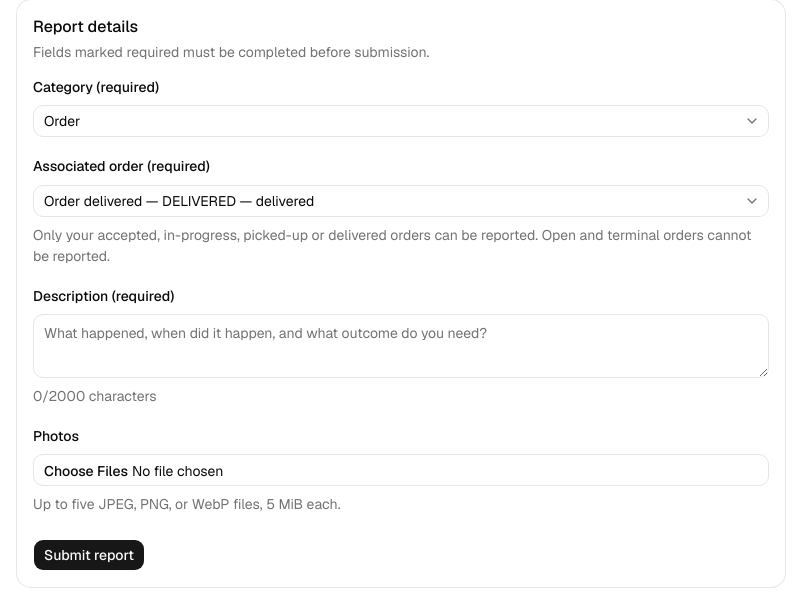
Test case: report form › uses only the active-order endpoint, follows its pages, and applies a valid prefill
Expected: the text "Category (required)" is shown, [33,78,159,96]
Expected: the text "Associated order (required)" is shown, [33,157,210,175]
Step 1. Click the dropdown named "Associated order" → (179, 200), box [33,184,769,216]
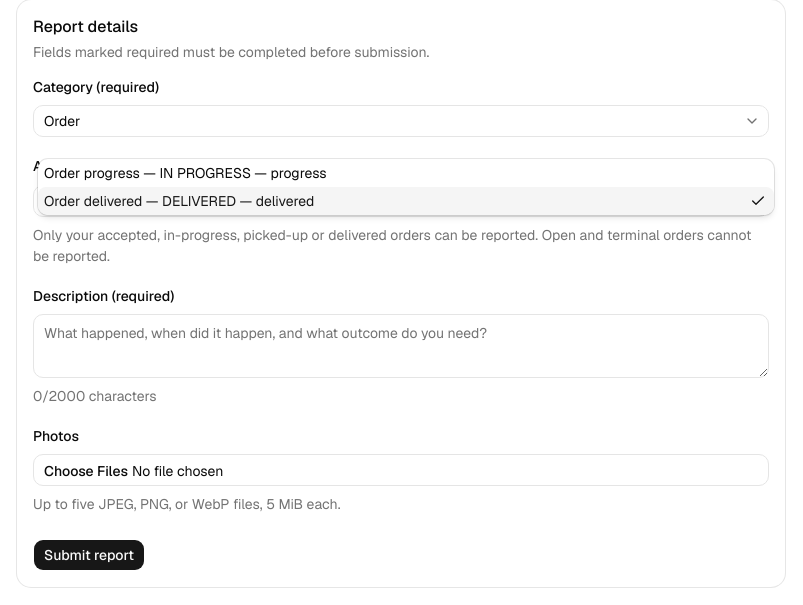
Now the option "Order progress — IN PROGRESS — progress" is shown, box [44,164,327,182]
Now the option "Order delivered — DELIVERED — delivered" is shown, box [38,186,774,214]
